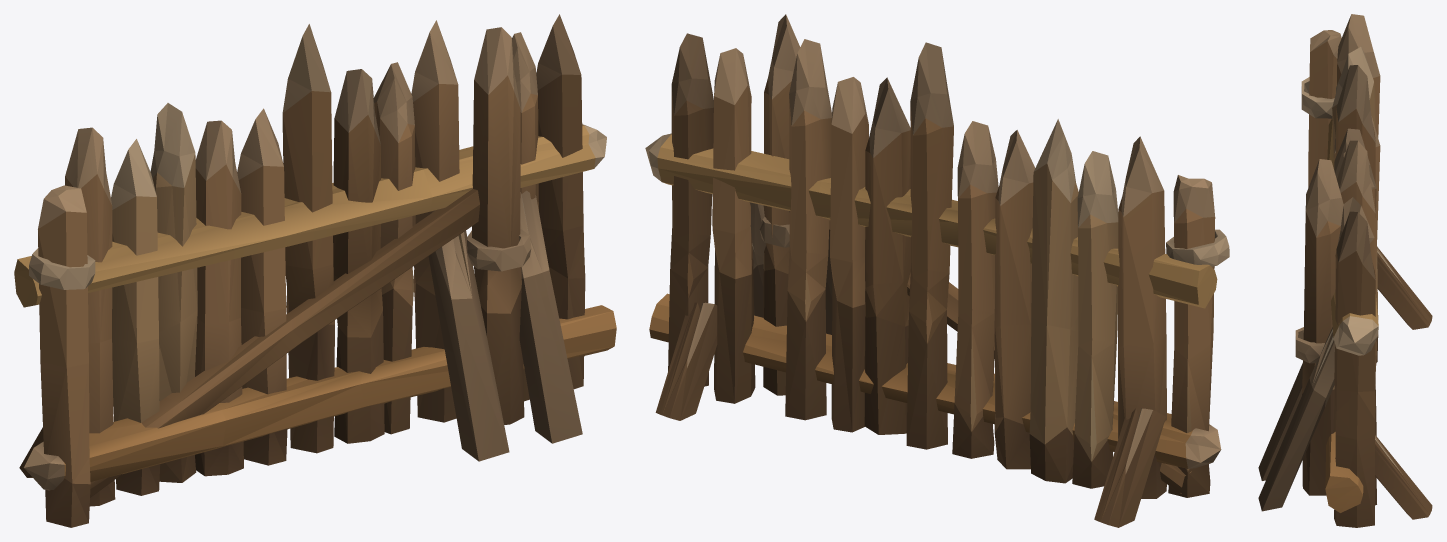
Rendered from fence_palisade_b.glb.
3 renders of one model, left to right at view 1: azimuth 30°, elevation 25°; view 2: azimuth 150°, elevation 25°; view 3: azimuth 270°, elevation 25°, orthographic. The views are drawn at different scales.
Size of the model in its own units: 2.4 by 1.63 by 0.7209.
